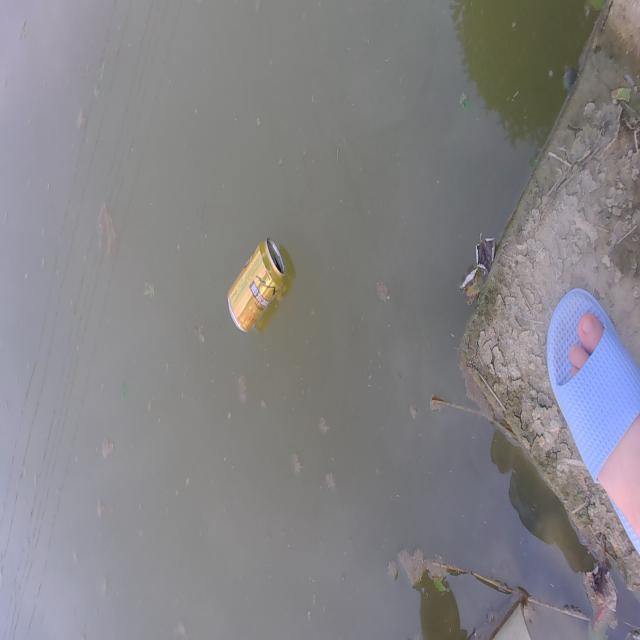garbage: (226, 236, 286, 332)
